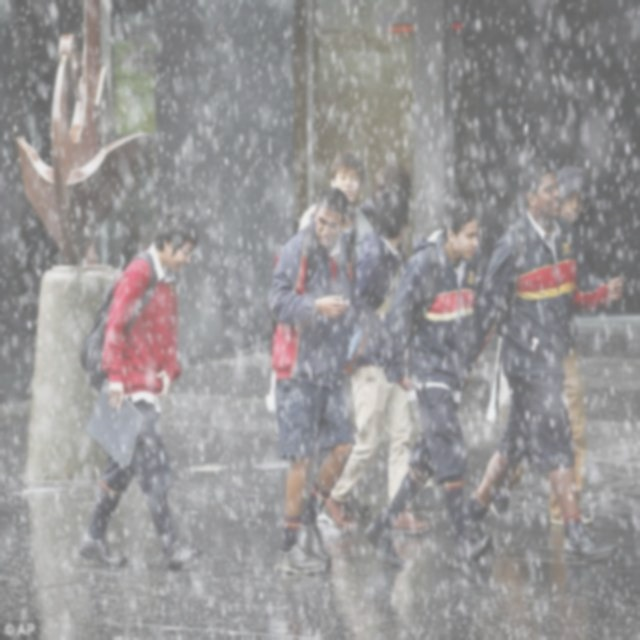pessoa: (461, 158, 625, 564), (362, 195, 504, 575), (74, 207, 206, 577), (480, 162, 604, 528), (314, 186, 434, 544), (264, 184, 362, 578), (296, 150, 376, 260), (361, 162, 414, 252)
